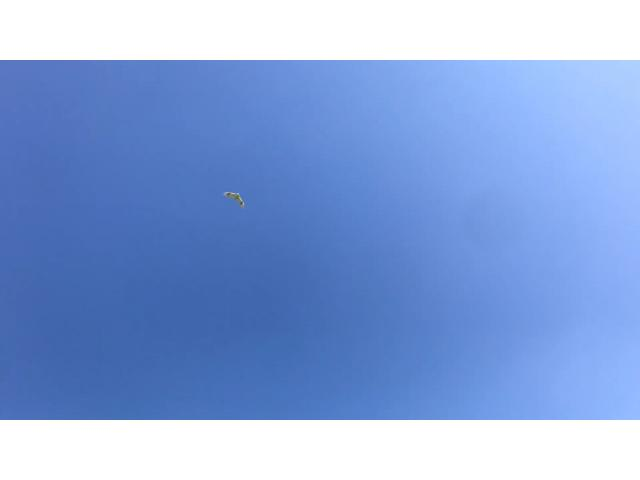Anti-Drone: (212, 188, 252, 214)
